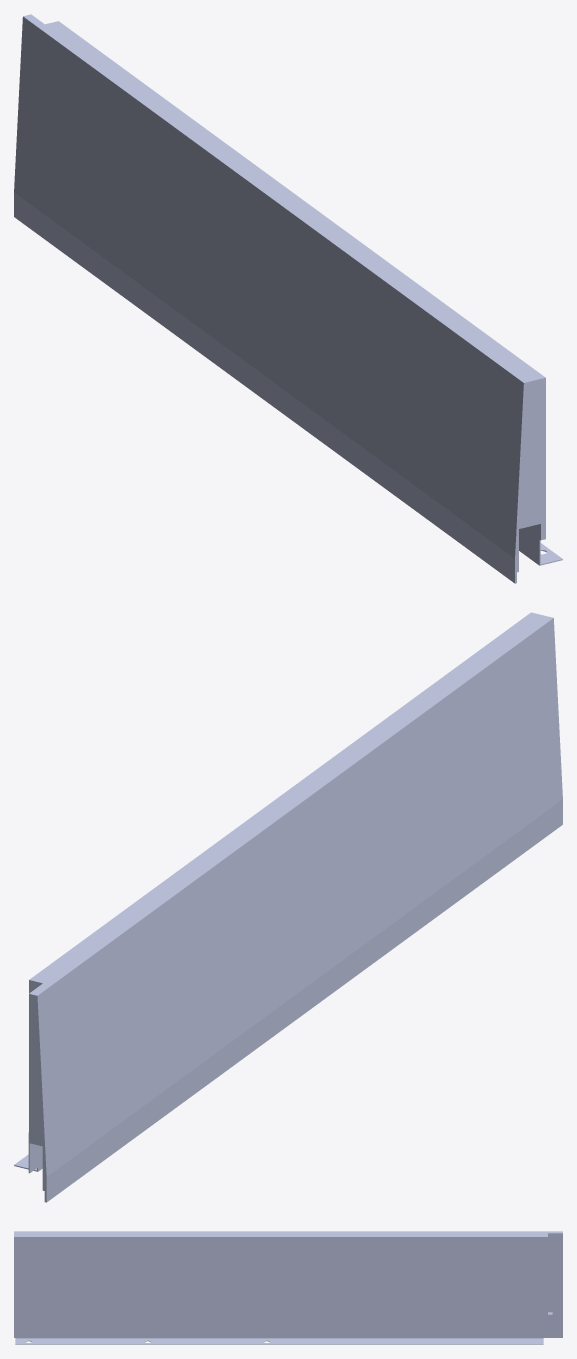
File: mv-kava-K600-p.glb
3 renders of one model, top to bottom at view 1: azimuth 30°, elevation 25°; view 2: azimuth 150°, elevation 25°; view 3: azimuth 270°, elevation 25°, orthographic. The views are drawn at different scales.
Parts seen in each view (by area): view 1: 41260158; view 2: 41260158; view 3: 41260158.
Boxes of the visible parts, x1,y1,x2,y2 form: 41260158: [14, 14, 562, 583]; 41260158: [14, 612, 562, 1202]; 41260158: [14, 1231, 562, 1344].
Bounding box in the file's own units: 0.0335 × 0.129 × 0.5902.
